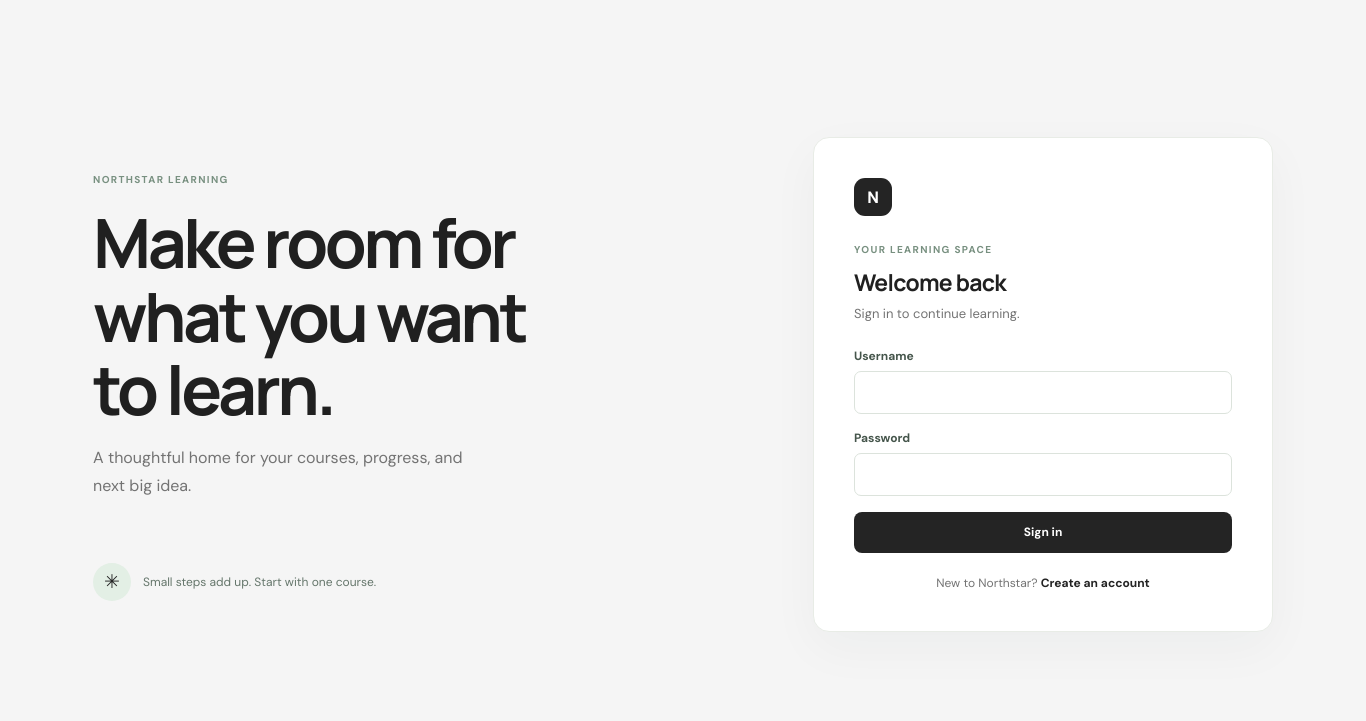
Test: Learning Management System › shows the student lounge and contact details for enrolled-course teachers
This screenshot has width=1366, height=721.
In the field labelled "Username": (1043,392) [854,370,1232,414], type "sam"
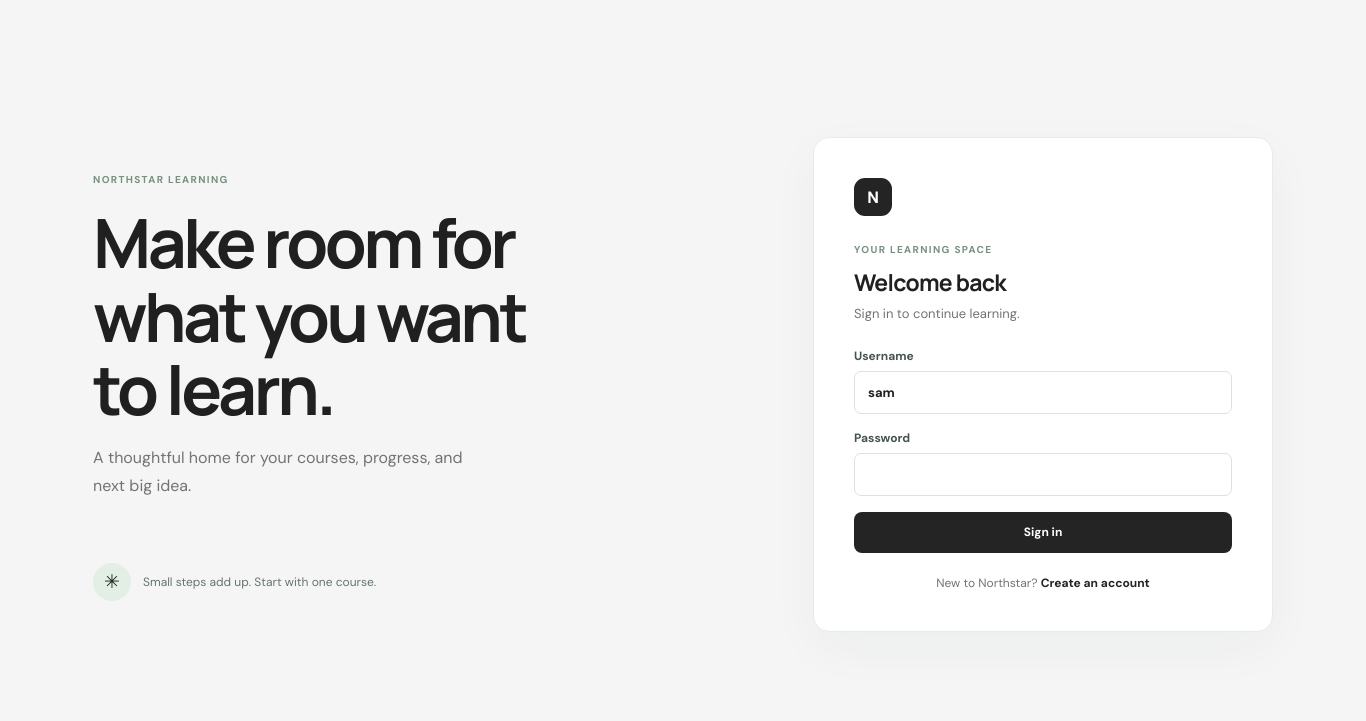
In the password field labelled "Password": (1043,474) [854,452,1232,496], type "a-secure-password"
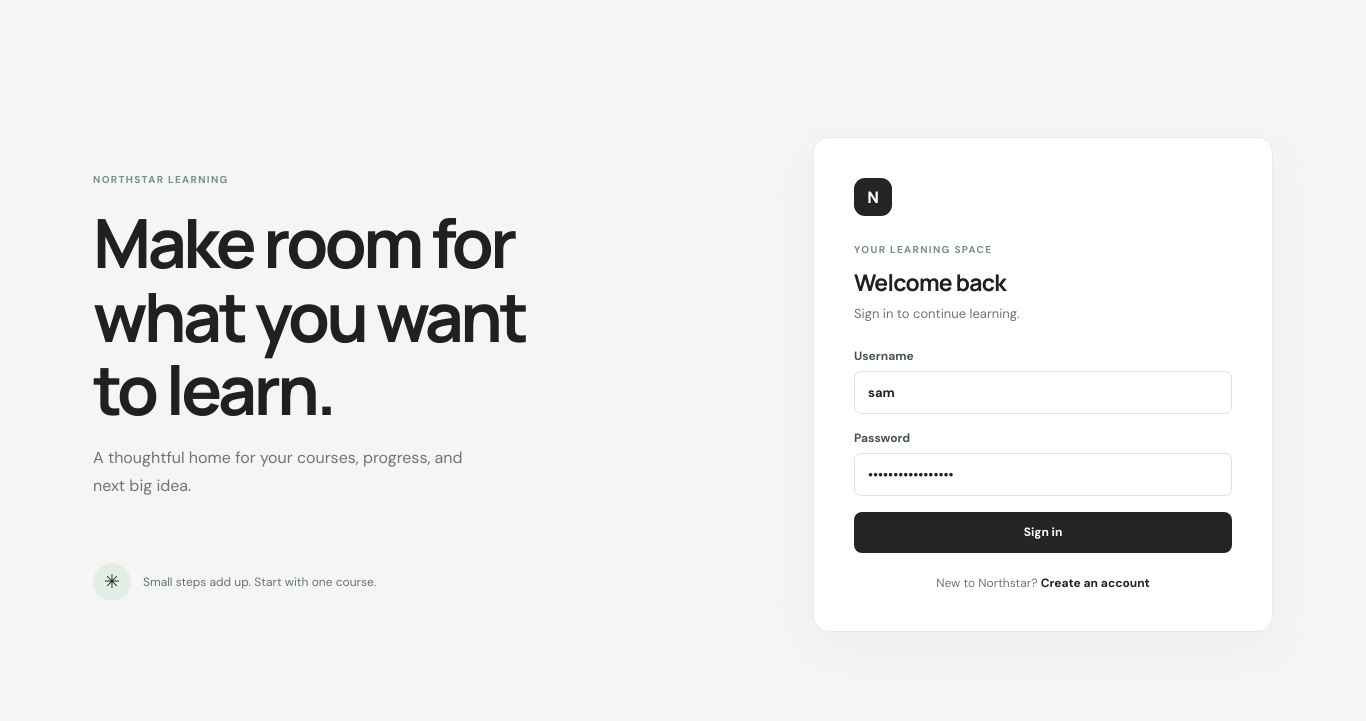
Click the button "Sign in": (1043,532) [854,512,1232,552]
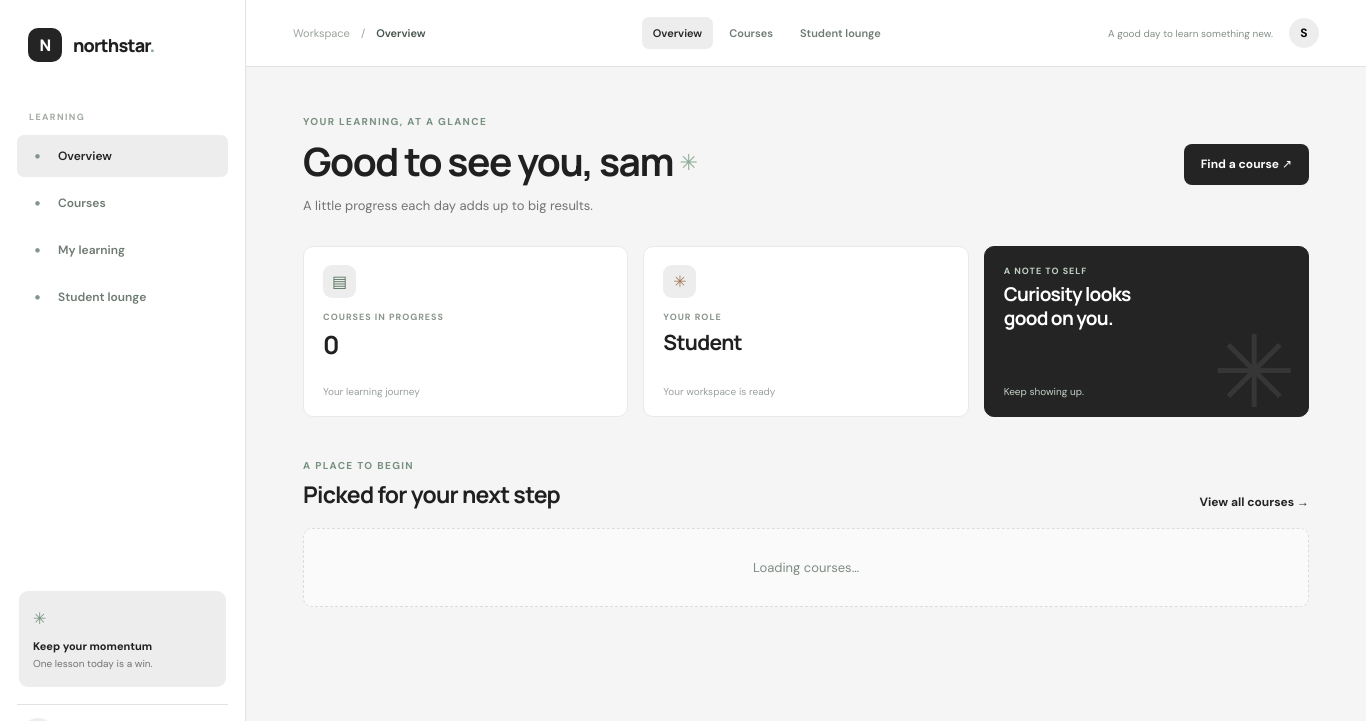
Click the link "Student lounge": (840,33) [800,26,881,40]
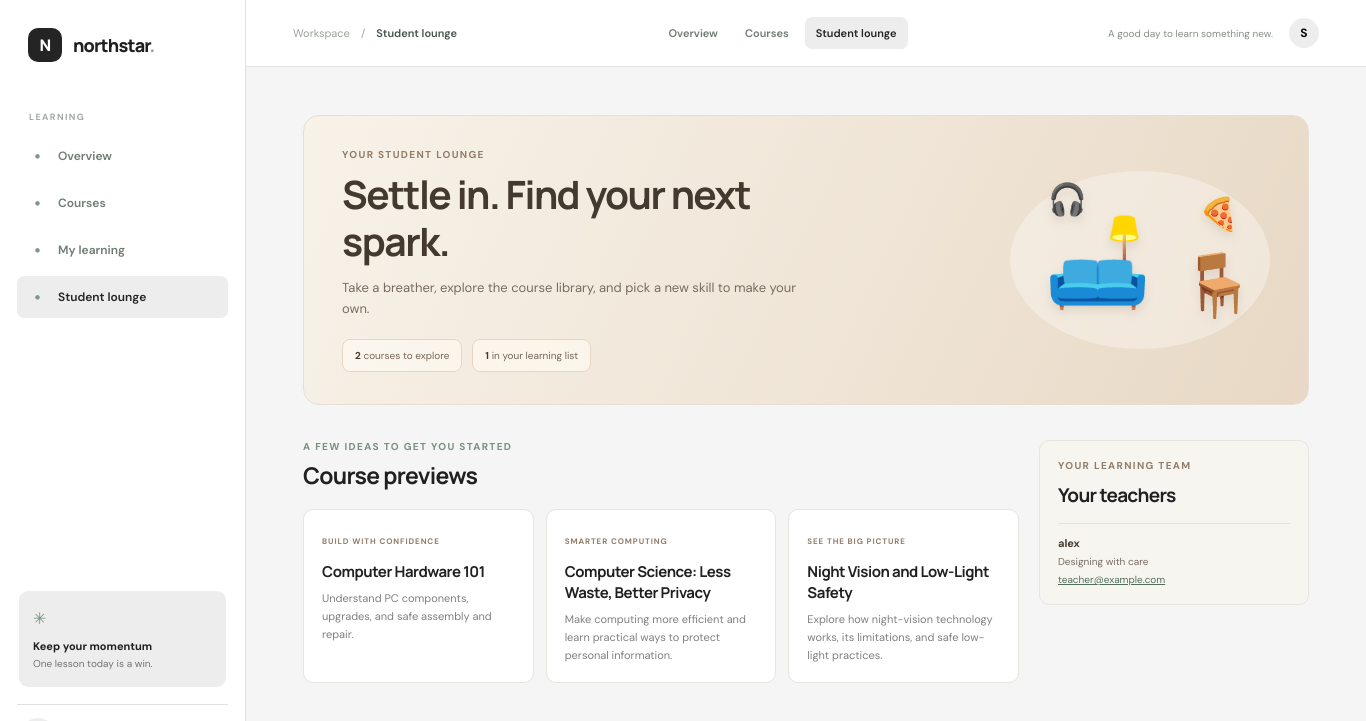
Expected: the heading "Settle in. Find your next spark." is shown, [342,171,822,265]
Expected: the heading "Computer Hardware 101" is shown, [322,562,485,582]
Expected: the heading "Your teachers" is shown, [1058,482,1176,508]
